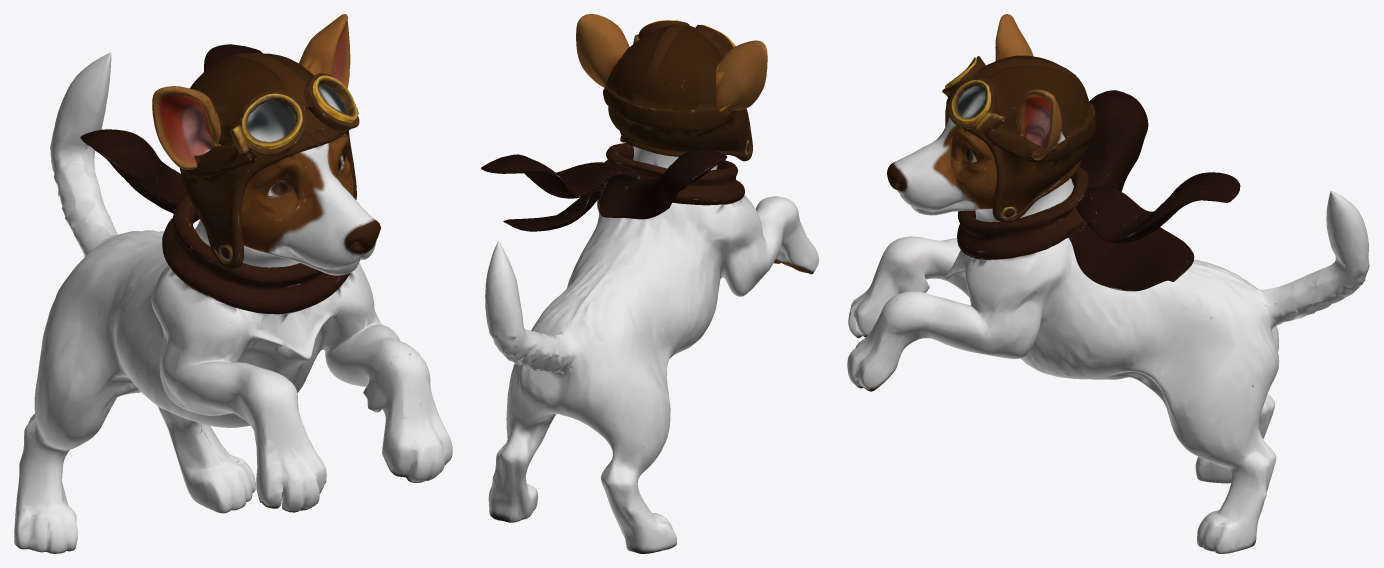
Rendered from detail_11.glb.
3 renders of one model, left to right at view 1: azimuth 30°, elevation 25°; view 2: azimuth 150°, elevation 25°; view 3: azimuth 270°, elevation 25°, orthographic. The views are drawn at different scales.
Size of the model in its own units: 0.4563 by 0.973 by 1.
1 material, 1 textured.
